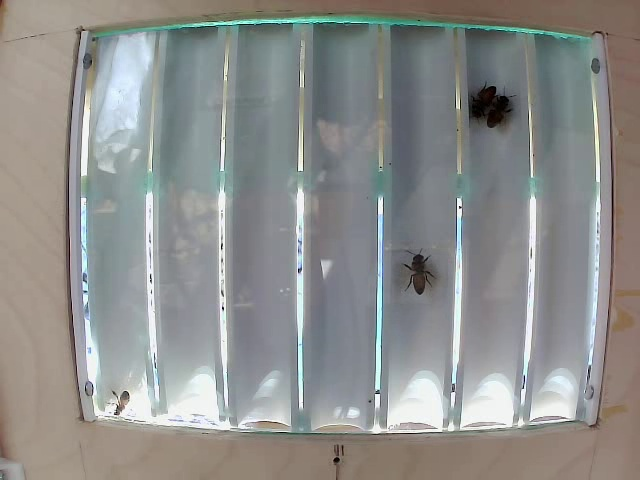bee: (388, 234, 443, 311), (465, 72, 489, 121), (484, 84, 504, 133)
